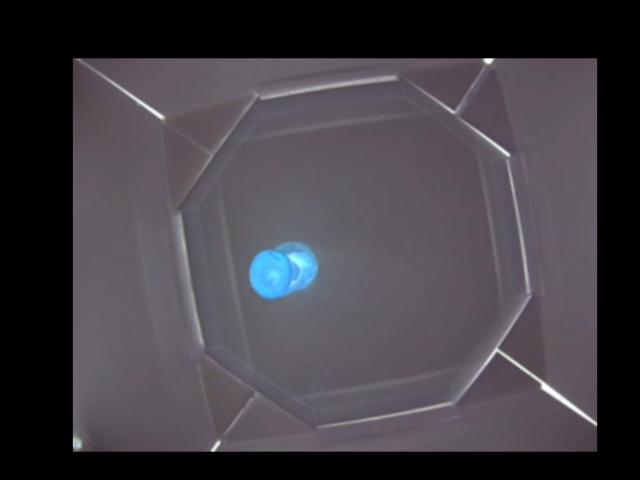Carrot: (248, 239, 316, 297)
